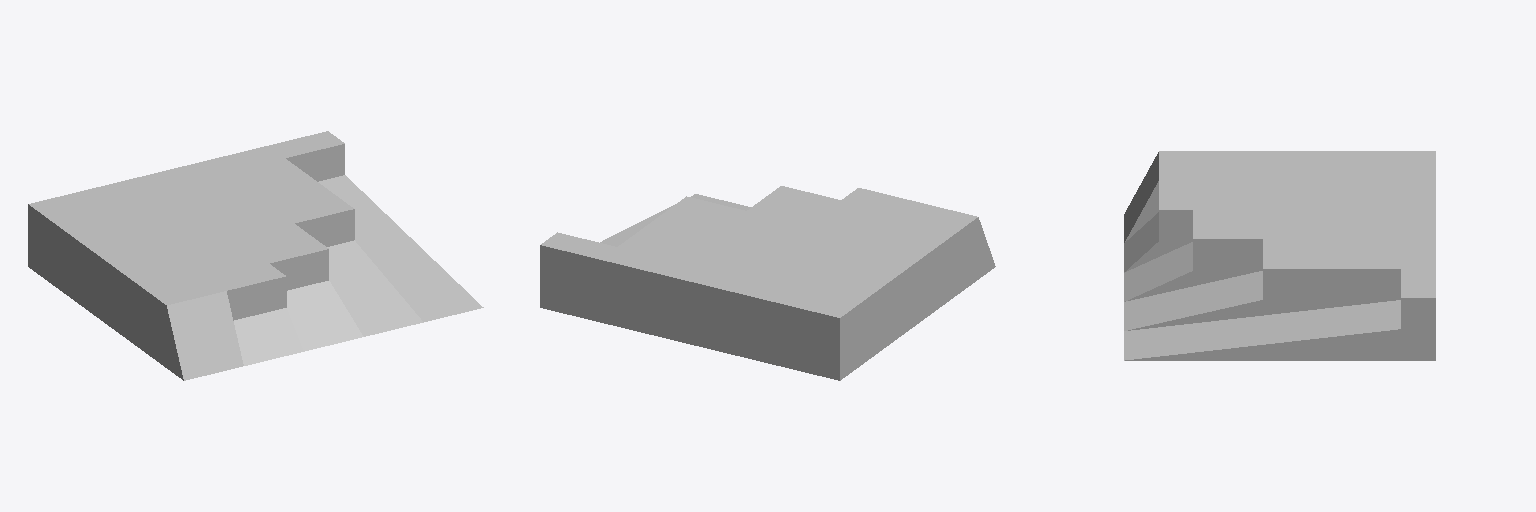
File: slopes.obj
3 renders of one model, left to right at view 1: azimuth 30°, elevation 25°; view 2: azimuth 150°, elevation 25°; view 3: azimuth 270°, elevation 25°, orthographic.
Visible parts, largest first — view 1: slopes_Plane.011; view 2: slopes_Plane.011; view 3: slopes_Plane.011.
Boxes of the visible parts, x1=… form: slopes_Plane.011: x1=28, y1=131, x2=483, y2=380; slopes_Plane.011: x1=540, y1=186, x2=995, y2=380; slopes_Plane.011: x1=1124, y1=151, x2=1435, y2=360.
Size of the model in its own units: 10 by 2 by 9.